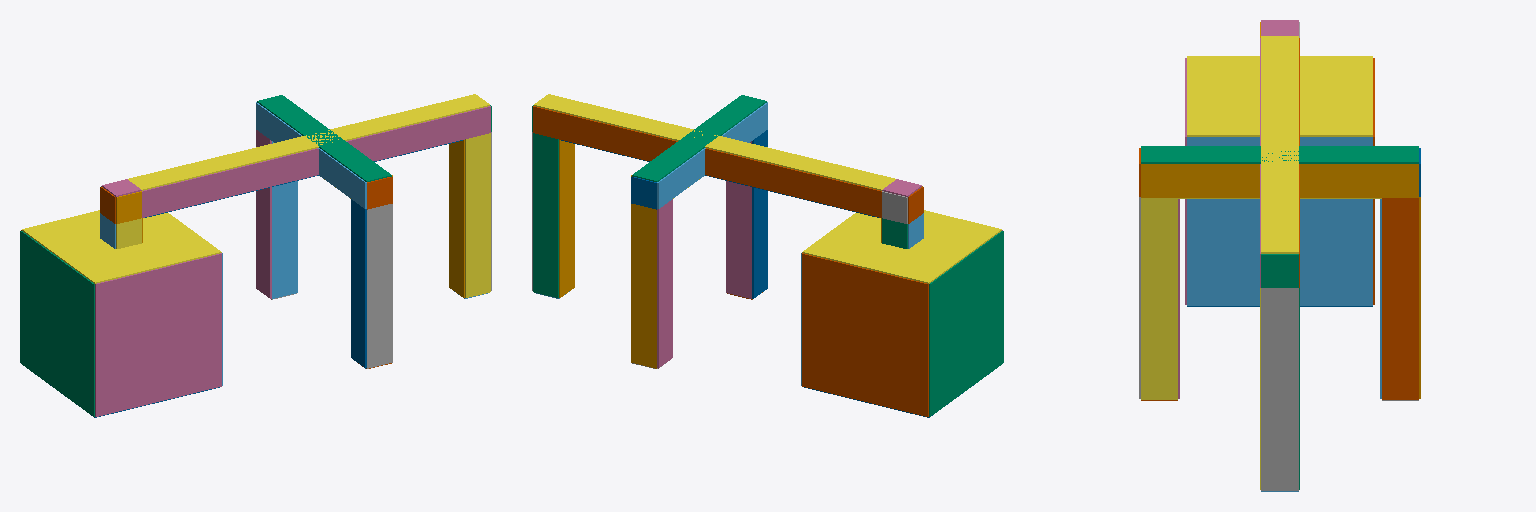
--- What the picture shows (computed from the rendered views, not written in the file) ---
3 views of the same robot in one strip: view 1: azimuth 30°, elevation 25°; view 2: azimuth 150°, elevation 25°; view 3: azimuth 270°, elevation 25° (orthographic).
Robot: robot — 70 links, 69 joints (2 continuous, 67 fixed); root link body; default pose: all joints at 0.
Links seen in each view (by area): view 1: body_sensor_0_right, body_sensor_0_stop, arm_sensor_0_right, body_sensor_0_top, arm_sensor_0_top, hand_3_sensor_0_right, hand_1_sensor_0_right, hand_2_sensor_0_right, palm_sensor_0_top, hand_3_sensor_0_stop, hand_1_sensor_0_stop, palm_sensor_0_stop (+4 smaller); view 2: body_sensor_0_left, body_sensor_0_stop, arm_sensor_0_left, body_sensor_0_top, arm_sensor_0_top, hand_2_sensor_0_left, hand_1_sensor_0_left, hand_3_sensor_0_left, palm_sensor_0_top, hand_2_sensor_0_stop, hand_1_sensor_0_stop, palm_sensor_0_stop (+4 smaller); view 3: body_sensor_0_start, body_sensor_0_top, arm_sensor_0_top, palm_sensor_0_start, hand_1_sensor_0_start, hand_2_sensor_0_start, hand_3_sensor_0_start, palm_sensor_0_top, arm_sensor_0_start, joint_2_sensor_0_top.
Boxes of the visible links, <box> form: body_sensor_0_right: <box>95,253,221,416</box>; body_sensor_0_stop: <box>20,231,94,416</box>; arm_sensor_0_right: <box>142,106,490,217</box>; body_sensor_0_top: <box>22,210,221,283</box>; arm_sensor_0_top: <box>128,94,489,190</box>; hand_3_sensor_0_right: <box>367,204,392,368</box>; hand_1_sensor_0_right: <box>465,133,490,297</box>; hand_2_sensor_0_right: <box>272,141,297,298</box>; palm_sensor_0_top: <box>257,95,391,181</box>; hand_3_sensor_0_stop: <box>351,199,366,368</box>; hand_1_sensor_0_stop: <box>449,140,464,297</box>; palm_sensor_0_stop: <box>256,102,366,208</box>; body_sensor_0_left: <box>802,253,928,416</box>; body_sensor_0_stop: <box>929,231,1003,416</box>; arm_sensor_0_left: <box>533,106,881,217</box>; body_sensor_0_top: <box>802,210,1001,283</box>; arm_sensor_0_top: <box>534,94,895,190</box>; hand_2_sensor_0_left: <box>631,204,656,368</box>; hand_1_sensor_0_left: <box>533,133,558,297</box>; hand_3_sensor_0_left: <box>726,141,751,298</box>; palm_sensor_0_top: <box>632,95,766,181</box>; hand_2_sensor_0_stop: <box>657,199,672,368</box>; hand_1_sensor_0_stop: <box>559,140,574,297</box>; palm_sensor_0_stop: <box>657,102,767,208</box>; body_sensor_0_start: <box>1187,137,1372,305</box>; body_sensor_0_top: <box>1187,56,1372,136</box>; arm_sensor_0_top: <box>1261,36,1298,253</box>; palm_sensor_0_start: <box>1141,164,1418,197</box>; hand_1_sensor_0_start: <box>1261,288,1298,490</box>; hand_2_sensor_0_start: <box>1382,198,1418,399</box>; hand_3_sensor_0_start: <box>1141,198,1177,399</box>; palm_sensor_0_top: <box>1141,146,1418,163</box>; arm_sensor_0_start: <box>1261,254,1298,287</box>; joint_2_sensor_0_top: <box>1261,20,1298,35</box>.
Bounding box of the posed robot: 3.37 × 1.52 × 1.42 m (x, y, z).
Geometry: primitives only (box / cylinder / sphere), no mesh files.

The robot description file, URDF, robot "robot":
<?xml version="1.0"?>
    <robot name="robot">


    <!-- body -->
    <link name="body">
        <inertial>
            <origin xyz="0 0 0" rpy="0 0 0"/>
            <mass value="100"/>
            <inertia ixx=".1" ixy=".1" ixz=".1" iyy=".1" iyz=".1" izz=".1"/>
        </inertial>
        <visual>
            <origin xyz="0 0 0" rpy="0 0 0"/>
            <geometry>
                <box size="1 1 1"/>
            </geometry>
        </visual>
        <collision>
            <origin xyz="0 0 0" rpy="0 0 0"/>
            <geometry>
                <box size="1 1 1"/>
            </geometry>
        </collision>
    </link>


    <!-- body_sensor_0_start -->
    <link name="body_sensor_0_start">
        <inertial>
            <origin xyz="0 0 0" rpy="0 0 0"/>
            <mass value="0"/>
            <inertia ixx=".1" ixy=".1" ixz=".1" iyy=".1" iyz=".1" izz=".1"/>
        </inertial>
        <visual>
            <origin xyz="0 0 0" rpy="0 0 0"/>
            <geometry>
                <box size="0.02 1 1"/>
            </geometry>
        </visual>
        <collision>
            <origin xyz="0 0 0" rpy="0 0 0"/>
            <geometry>
                <box size="0.02 1 1"/>
            </geometry>
        </collision>
    </link>
    <!-- Joint: body, body_sensor_0_start -->
    <joint name="body_body_sensor_0_start_joint" type="fixed">
        <parent link="body"/>
        <child link="body_sensor_0_start"/>
        <origin xyz="0.5 0 0"
                rpy="0 0 0"/>
        <axis xyz="0 0 1"/>
        
    </joint>


    <!-- body_sensor_0_stop -->
    <link name="body_sensor_0_stop">
        <inertial>
            <origin xyz="0 0 0" rpy="0 0 0"/>
            <mass value="0"/>
            <inertia ixx=".1" ixy=".1" ixz=".1" iyy=".1" iyz=".1" izz=".1"/>
        </inertial>
        <visual>
            <origin xyz="0 0 0" rpy="0 0 0"/>
            <geometry>
                <box size="0.02 1 1"/>
            </geometry>
        </visual>
        <collision>
            <origin xyz="0 0 0" rpy="0 0 0"/>
            <geometry>
                <box size="0.02 1 1"/>
            </geometry>
        </collision>
    </link>
    <!-- Joint: body, body_sensor_0_stop -->
    <joint name="body_body_sensor_0_stop_joint" type="fixed">
        <parent link="body"/>
        <child link="body_sensor_0_stop"/>
        <origin xyz="-0.5 0 0"
                rpy="0 0 0"/>
        <axis xyz="0 0 1"/>
        
    </joint>


    <!-- body_sensor_0_top -->
    <link name="body_sensor_0_top">
        <inertial>
            <origin xyz="0 0 0" rpy="0 0 0"/>
            <mass value="0"/>
            <inertia ixx=".1" ixy=".1" ixz=".1" iyy=".1" iyz=".1" izz=".1"/>
        </inertial>
        <visual>
            <origin xyz="0 0 0" rpy="0 0 0"/>
            <geometry>
                <box size="1.0 1 0.02"/>
            </geometry>
        </visual>
        <collision>
            <origin xyz="0 0 0" rpy="0 0 0"/>
            <geometry>
                <box size="1.0 1 0.02"/>
            </geometry>
        </collision>
    </link>
    <!-- Joint: body, body_sensor_0_top -->
    <joint name="body_body_sensor_0_top_joint" type="fixed">
        <parent link="body"/>
        <child link="body_sensor_0_top"/>
        <origin xyz="0 0 0.5"
                rpy="0 0 0"/>
        <axis xyz="0 0 1"/>
        
    </joint>


    <!-- body_sensor_0_bottom -->
    <link name="body_sensor_0_bottom">
        <inertial>
            <origin xyz="0 0 0" rpy="0 0 0"/>
            <mass value="0"/>
            <inertia ixx=".1" ixy=".1" ixz=".1" iyy=".1" iyz=".1" izz=".1"/>
        </inertial>
        <visual>
            <origin xyz="0 0 0" rpy="0 0 0"/>
            <geometry>
                <box size="1.0 1 0.02"/>
            </geometry>
        </visual>
        <collision>
            <origin xyz="0 0 0" rpy="0 0 0"/>
            <geometry>
                <box size="1.0 1 0.02"/>
            </geometry>
        </collision>
    </link>
    <!-- Joint: body, body_sensor_0_bottom -->
    <joint name="body_body_sensor_0_bottom_joint" type="fixed">
        <parent link="body"/>
        <child link="body_sensor_0_bottom"/>
        <origin xyz="0 0 -0.5"
                rpy="0 0 0"/>
        <axis xyz="0 0 1"/>
        
    </joint>


    <!-- body_sensor_0_left -->
    <link name="body_sensor_0_left">
        <inertial>
            <origin xyz="0 0 0" rpy="0 0 0"/>
            <mass value="0"/>
            <inertia ixx=".1" ixy=".1" ixz=".1" iyy=".1" iyz=".1" izz=".1"/>
        </inertial>
        <visual>
            <origin xyz="0 0 0" rpy="0 0 0"/>
            <geometry>
                <box size="1.0 0.02 1"/>
            </geometry>
        </visual>
        <collision>
            <origin xyz="0 0 0" rpy="0 0 0"/>
            <geometry>
                <box size="1.0 0.02 1"/>
            </geometry>
        </collision>
    </link>
    <!-- Joint: body, body_sensor_0_left -->
    <joint name="body_body_sensor_0_left_joint" type="fixed">
        <parent link="body"/>
        <child link="body_sensor_0_left"/>
        <origin xyz="0 0.5 0"
                rpy="0 0 0"/>
        <axis xyz="0 0 1"/>
        
    </joint>


    <!-- body_sensor_0_right -->
    <link name="body_sensor_0_right">
        <inertial>
            <origin xyz="0 0 0" rpy="0 0 0"/>
            <mass value="0"/>
            <inertia ixx=".1" ixy=".1" ixz=".1" iyy=".1" iyz=".1" izz=".1"/>
        </inertial>
        <visual>
            <origin xyz="0 0 0" rpy="0 0 0"/>
            <geometry>
                <box size="1.0 0.02 1"/>
            </geometry>
        </visual>
        <collision>
            <origin xyz="0 0 0" rpy="0 0 0"/>
            <geometry>
                <box size="1.0 0.02 1"/>
            </geometry>
        </collision>
    </link>
    <!-- Joint: body, body_sensor_0_right -->
    <joint name="body_body_sensor_0_right_joint" type="fixed">
        <parent link="body"/>
        <child link="body_sensor_0_right"/>
        <origin xyz="0 -0.5 0"
                rpy="0 0 0"/>
        <axis xyz="0 0 1"/>
        
    </joint>


    <!-- joint_1 -->
    <link name="joint_1">
        <inertial>
            <origin xyz="0 0 0" rpy="0 0 0"/>
            <mass value="2"/>
            <inertia ixx=".1" ixy=".1" ixz=".1" iyy=".1" iyz=".1" izz=".1"/>
        </inertial>
        <visual>
            <origin xyz="0 0 0" rpy="0 0 0"/>
            <geometry>
                <box size="0.2 0.2 0.2"/>
            </geometry>
        </visual>
        <collision>
            <origin xyz="0 0 0" rpy="0 0 0"/>
            <geometry>
                <box size="0.2 0.2 0.2"/>
            </geometry>
        </collision>
    </link>


    <!-- joint_1_sensor_0_start -->
    <link name="joint_1_sensor_0_start">
        <inertial>
            <origin xyz="0 0 0" rpy="0 0 0"/>
            <mass value="0"/>
            <inertia ixx=".1" ixy=".1" ixz=".1" iyy=".1" iyz=".1" izz=".1"/>
        </inertial>
        <visual>
            <origin xyz="0 0 0" rpy="0 0 0"/>
            <geometry>
                <box size="0.02 0.2 0.2"/>
            </geometry>
        </visual>
        <collision>
            <origin xyz="0 0 0" rpy="0 0 0"/>
            <geometry>
                <box size="0.02 0.2 0.2"/>
            </geometry>
        </collision>
    </link>
    <!-- Joint: joint_1, joint_1_sensor_0_start -->
    <joint name="joint_1_joint_1_sensor_0_start_joint" type="fixed">
        <parent link="joint_1"/>
        <child link="joint_1_sensor_0_start"/>
        <origin xyz="0.1 0 0"
                rpy="0 0 0"/>
        <axis xyz="0 0 1"/>
        
    </joint>


    <!-- joint_1_sensor_0_stop -->
    <link name="joint_1_sensor_0_stop">
        <inertial>
            <origin xyz="0 0 0" rpy="0 0 0"/>
            <mass value="0"/>
            <inertia ixx=".1" ixy=".1" ixz=".1" iyy=".1" iyz=".1" izz=".1"/>
        </inertial>
        <visual>
            <origin xyz="0 0 0" rpy="0 0 0"/>
            <geometry>
                <box size="0.02 0.2 0.2"/>
            </geometry>
        </visual>
        <collision>
            <origin xyz="0 0 0" rpy="0 0 0"/>
            <geometry>
                <box size="0.02 0.2 0.2"/>
            </geometry>
        </collision>
    </link>
    <!-- Joint: joint_1, joint_1_sensor_0_stop -->
    <joint name="joint_1_joint_1_sensor_0_stop_joint" type="fixed">
        <parent link="joint_1"/>
        <child link="joint_1_sensor_0_stop"/>
        <origin xyz="-0.1 0 0"
                rpy="0 0 0"/>
        <axis xyz="0 0 1"/>
        
    </joint>


    <!-- joint_1_sensor_0_left -->
    <link name="joint_1_sensor_0_left">
        <inertial>
            <origin xyz="0 0 0" rpy="0 0 0"/>
            <mass value="0"/>
            <inertia ixx=".1" ixy=".1" ixz=".1" iyy=".1" iyz=".1" izz=".1"/>
        </inertial>
        <visual>
            <origin xyz="0 0 0" rpy="0 0 0"/>
            <geometry>
                <box size="0.2 0.02 0.2"/>
            </geometry>
        </visual>
        <collision>
            <origin xyz="0 0 0" rpy="0 0 0"/>
            <geometry>
                <box size="0.2 0.02 0.2"/>
            </geometry>
        </collision>
    </link>
    <!-- Joint: joint_1, joint_1_sensor_0_left -->
    <joint name="joint_1_joint_1_sensor_0_left_joint" type="fixed">
        <parent link="joint_1"/>
        <child link="joint_1_sensor_0_left"/>
        <origin xyz="0 0.1 0"
                rpy="0 0 0"/>
        <axis xyz="0 0 1"/>
        
    </joint>


    <!-- joint_1_sensor_0_right -->
    <link name="joint_1_sensor_0_right">
        <inertial>
            <origin xyz="0 0 0" rpy="0 0 0"/>
            <mass value="0"/>
            <inertia ixx=".1" ixy=".1" ixz=".1" iyy=".1" iyz=".1" izz=".1"/>
        </inertial>
        <visual>
            <origin xyz="0 0 0" rpy="0 0 0"/>
            <geometry>
                <box size="0.2 0.02 0.2"/>
            </geometry>
        </visual>
        <collision>
            <origin xyz="0 0 0" rpy="0 0 0"/>
            <geometry>
                <box size="0.2 0.02 0.2"/>
            </geometry>
        </collision>
    </link>
    <!-- Joint: joint_1, joint_1_sensor_0_right -->
    <joint name="joint_1_joint_1_sensor_0_right_joint" type="fixed">
        <parent link="joint_1"/>
        <child link="joint_1_sensor_0_right"/>
        <origin xyz="0 -0.1 0"
                rpy="0 0 0"/>
        <axis xyz="0 0 1"/>
        
    </joint>
    <!-- Joint: body, joint_1 -->
    <joint name="body_joint_1_joint" type="continuous">
        <parent link="body"/>
        <child link="joint_1"/>
        <origin xyz="0 0 0.6"
                rpy="0 0 0"/>
        <axis xyz="0 0 1"/>
        <limit lower="0" upper="0" effort="0" velocity="0"/>
    </joint>


    <!-- joint_2 -->
    <link name="joint_2">
        <inertial>
            <origin xyz="0 0 0" rpy="0 0 0"/>
            <mass value="2"/>
            <inertia ixx=".1" ixy=".1" ixz=".1" iyy=".1" iyz=".1" izz=".1"/>
        </inertial>
        <visual>
            <origin xyz="0 0 0" rpy="0 0 0"/>
            <geometry>
                <box size="0.2 0.2 0.2"/>
            </geometry>
        </visual>
        <collision>
            <origin xyz="0 0 0" rpy="0 0 0"/>
            <geometry>
                <box size="0.2 0.2 0.2"/>
            </geometry>
        </collision>
    </link>


    <!-- joint_2_sensor_0_stop -->
    <link name="joint_2_sensor_0_stop">
        <inertial>
            <origin xyz="0 0 0" rpy="0 0 0"/>
            <mass value="0"/>
            <inertia ixx=".1" ixy=".1" ixz=".1" iyy=".1" iyz=".1" izz=".1"/>
        </inertial>
        <visual>
            <origin xyz="0 0 0" rpy="0 0 0"/>
            <geometry>
                <box size="0.02 0.2 0.2"/>
            </geometry>
        </visual>
        <collision>
            <origin xyz="0 0 0" rpy="0 0 0"/>
            <geometry>
                <box size="0.02 0.2 0.2"/>
            </geometry>
        </collision>
    </link>
    <!-- Joint: joint_2, joint_2_sensor_0_stop -->
    <joint name="joint_2_joint_2_sensor_0_stop_joint" type="fixed">
        <parent link="joint_2"/>
        <child link="joint_2_sensor_0_stop"/>
        <origin xyz="-0.1 0 0"
                rpy="0 0 0"/>
        <axis xyz="0 1 0"/>
        
    </joint>


    <!-- joint_2_sensor_0_top -->
    <link name="joint_2_sensor_0_top">
        <inertial>
            <origin xyz="0 0 0" rpy="0 0 0"/>
            <mass value="0"/>
            <inertia ixx=".1" ixy=".1" ixz=".1" iyy=".1" iyz=".1" izz=".1"/>
        </inertial>
        <visual>
            <origin xyz="0 0 0" rpy="0 0 0"/>
            <geometry>
                <box size="0.2 0.2 0.02"/>
            </geometry>
        </visual>
        <collision>
            <origin xyz="0 0 0" rpy="0 0 0"/>
            <geometry>
                <box size="0.2 0.2 0.02"/>
            </geometry>
        </collision>
    </link>
    <!-- Joint: joint_2, joint_2_sensor_0_top -->
    <joint name="joint_2_joint_2_sensor_0_top_joint" type="fixed">
        <parent link="joint_2"/>
        <child link="joint_2_sensor_0_top"/>
        <origin xyz="0 0 0.1"
                rpy="0 0 0"/>
        <axis xyz="0 1 0"/>
        
    </joint>


    <!-- joint_2_sensor_0_left -->
    <link name="joint_2_sensor_0_left">
        <inertial>
            <origin xyz="0 0 0" rpy="0 0 0"/>
            <mass value="0"/>
            <inertia ixx=".1" ixy=".1" ixz=".1" iyy=".1" iyz=".1" izz=".1"/>
        </inertial>
        <visual>
            <origin xyz="0 0 0" rpy="0 0 0"/>
            <geometry>
                <box size="0.2 0.02 0.2"/>
            </geometry>
        </visual>
        <collision>
            <origin xyz="0 0 0" rpy="0 0 0"/>
            <geometry>
                <box size="0.2 0.02 0.2"/>
            </geometry>
        </collision>
    </link>
    <!-- Joint: joint_2, joint_2_sensor_0_left -->
    <joint name="joint_2_joint_2_sensor_0_left_joint" type="fixed">
        <parent link="joint_2"/>
        <child link="joint_2_sensor_0_left"/>
        <origin xyz="0 0.1 0"
                rpy="0 0 0"/>
        <axis xyz="0 1 0"/>
        
    </joint>


    <!-- joint_2_sensor_0_right -->
    <link name="joint_2_sensor_0_right">
        <inertial>
            <origin xyz="0 0 0" rpy="0 0 0"/>
            <mass value="0"/>
            <inertia ixx=".1" ixy=".1" ixz=".1" iyy=".1" iyz=".1" izz=".1"/>
        </inertial>
        <visual>
            <origin xyz="0 0 0" rpy="0 0 0"/>
            <geometry>
                <box size="0.2 0.02 0.2"/>
            </geometry>
        </visual>
        <collision>
            <origin xyz="0 0 0" rpy="0 0 0"/>
            <geometry>
                <box size="0.2 0.02 0.2"/>
            </geometry>
        </collision>
    </link>
    <!-- Joint: joint_2, joint_2_sensor_0_right -->
    <joint name="joint_2_joint_2_sensor_0_right_joint" type="fixed">
        <parent link="joint_2"/>
        <child link="joint_2_sensor_0_right"/>
        <origin xyz="0 -0.1 0"
                rpy="0 0 0"/>
        <axis xyz="0 1 0"/>
        
    </joint>
    <!-- Joint: joint_1, joint_2 -->
    <joint name="joint_1_joint_2_joint" type="continuous">
        <parent link="joint_1"/>
        <child link="joint_2"/>
        <origin xyz="0 0 0.2"
                rpy="0 0 0"/>
        <axis xyz="0 1 0"/>
        <limit lower="0" upper="0" effort="0" velocity="0"/>
    </joint>


    <!-- arm -->
    <link name="arm">
        <inertial>
            <origin xyz="0 0 0" rpy="0 0 0"/>
            <mass value="2"/>
            <inertia ixx=".1" ixy=".1" ixz=".1" iyy=".1" iyz=".1" izz=".1"/>
        </inertial>
        <visual>
            <origin xyz="0 0 0" rpy="0 0 0"/>
            <geometry>
                <box size="2.75 0.2 0.2"/>
            </geometry>
        </visual>
        <collision>
            <origin xyz="0 0 0" rpy="0 0 0"/>
            <geometry>
                <box size="2.75 0.2 0.2"/>
            </geometry>
        </collision>
    </link>


    <!-- arm_sensor_0_start -->
    <link name="arm_sensor_0_start">
        <inertial>
            <origin xyz="0 0 0" rpy="0 0 0"/>
            <mass value="0"/>
            <inertia ixx=".1" ixy=".1" ixz=".1" iyy=".1" iyz=".1" izz=".1"/>
        </inertial>
        <visual>
            <origin xyz="0 0 0" rpy="0 0 0"/>
            <geometry>
                <box size="0.02 0.2 0.2"/>
            </geometry>
        </visual>
        <collision>
            <origin xyz="0 0 0" rpy="0 0 0"/>
            <geometry>
                <box size="0.02 0.2 0.2"/>
            </geometry>
        </collision>
    </link>
    <!-- Joint: arm, arm_sensor_0_start -->
    <joint name="arm_arm_sensor_0_start_joint" type="fixed">
        <parent link="arm"/>
        <child link="arm_sensor_0_start"/>
        <origin xyz="1.375 0 0"
                rpy="0 0 0"/>
        <axis xyz="0 1 0"/>
        
    </joint>


    <!-- arm_sensor_0_top -->
    <link name="arm_sensor_0_top">
        <inertial>
            <origin xyz="0 0 0" rpy="0 0 0"/>
            <mass value="0"/>
            <inertia ixx=".1" ixy=".1" ixz=".1" iyy=".1" iyz=".1" izz=".1"/>
        </inertial>
        <visual>
            <origin xyz="0 0 0" rpy="0 0 0"/>
            <geometry>
                <box size="2.75 0.2 0.02"/>
            </geometry>
        </visual>
        <collision>
            <origin xyz="0 0 0" rpy="0 0 0"/>
            <geometry>
                <box size="2.75 0.2 0.02"/>
            </geometry>
        </collision>
    </link>
    <!-- Joint: arm, arm_sensor_0_top -->
    <joint name="arm_arm_sensor_0_top_joint" type="fixed">
        <parent link="arm"/>
        <child link="arm_sensor_0_top"/>
        <origin xyz="0 0 0.1"
                rpy="0 0 0"/>
        <axis xyz="0 1 0"/>
        
    </joint>


    <!-- arm_sensor_0_bottom -->
    <link name="arm_sensor_0_bottom">
        <inertial>
            <origin xyz="0 0 0" rpy="0 0 0"/>
            <mass value="0"/>
            <inertia ixx=".1" ixy=".1" ixz=".1" iyy=".1" iyz=".1" izz=".1"/>
        </inertial>
        <visual>
            <origin xyz="0 0 0" rpy="0 0 0"/>
            <geometry>
                <box size="2.75 0.2 0.02"/>
            </geometry>
        </visual>
        <collision>
            <origin xyz="0 0 0" rpy="0 0 0"/>
            <geometry>
                <box size="2.75 0.2 0.02"/>
            </geometry>
        </collision>
    </link>
    <!-- Joint: arm, arm_sensor_0_bottom -->
    <joint name="arm_arm_sensor_0_bottom_joint" type="fixed">
        <parent link="arm"/>
        <child link="arm_sensor_0_bottom"/>
        <origin xyz="0 0 -0.1"
                rpy="0 0 0"/>
        <axis xyz="0 1 0"/>
        
    </joint>


    <!-- arm_sensor_0_left -->
    <link name="arm_sensor_0_left">
        <inertial>
            <origin xyz="0 0 0" rpy="0 0 0"/>
            <mass value="0"/>
            <inertia ixx=".1" ixy=".1" ixz=".1" iyy=".1" iyz=".1" izz=".1"/>
        </inertial>
        <visual>
            <origin xyz="0 0 0" rpy="0 0 0"/>
            <geometry>
                <box size="2.75 0.02 0.2"/>
            </geometry>
        </visual>
        <collision>
            <origin xyz="0 0 0" rpy="0 0 0"/>
            <geometry>
                <box size="2.75 0.02 0.2"/>
            </geometry>
        </collision>
    </link>
    <!-- Joint: arm, arm_sensor_0_left -->
    <joint name="arm_arm_sensor_0_left_joint" type="fixed">
        <parent link="arm"/>
        <child link="arm_sensor_0_left"/>
        <origin xyz="0 0.1 0"
                rpy="0 0 0"/>
        <axis xyz="0 1 0"/>
        
    </joint>


    <!-- arm_sensor_0_right -->
    <link name="arm_sensor_0_right">
        <inertial>
            <origin xyz="0 0 0" rpy="0 0 0"/>
            <mass value="0"/>
            <inertia ixx=".1" ixy=".1" ixz=".1" iyy=".1" iyz=".1" izz=".1"/>
        </inertial>
        <visual>
            <origin xyz="0 0 0" rpy="0 0 0"/>
            <geometry>
                <box size="2.75 0.02 0.2"/>
            </geometry>
        </visual>
        <collision>
            <origin xyz="0 0 0" rpy="0 0 0"/>
            <geometry>
                <box size="2.75 0.02 0.2"/>
            </geometry>
        </collision>
    </link>
    <!-- Joint: arm, arm_sensor_0_right -->
    <joint name="arm_arm_sensor_0_right_joint" type="fixed">
        <parent link="arm"/>
        <child link="arm_sensor_0_right"/>
        <origin xyz="0 -0.1 0"
                rpy="0 0 0"/>
        <axis xyz="0 1 0"/>
        
    </joint>
    <!-- Joint: joint_2, arm -->
    <joint name="joint_2_arm_joint" type="fixed">
        <parent link="joint_2"/>
        <child link="arm"/>
        <origin xyz="1.475 0 0"
                rpy="0 0 0"/>
        <axis xyz="0 1 0"/>
        
    </joint>


    <!-- palm -->
    <link name="palm">
        <inertial>
            <origin xyz="0 0 0" rpy="0 0 0"/>
            <mass value="2"/>
            <inertia ixx=".1" ixy=".1" ixz=".1" iyy=".1" iyz=".1" izz=".1"/>
        </inertial>
        <visual>
            <origin xyz="0 0 0" rpy="0 0 0"/>
            <geometry>
                <box size="0.2 1.5 0.2"/>
            </geometry>
        </visual>
        <collision>
            <origin xyz="0 0 0" rpy="0 0 0"/>
            <geometry>
                <box size="0.2 1.5 0.2"/>
            </geometry>
        </collision>
    </link>


    <!-- palm_sensor_0_start -->
    <link name="palm_sensor_0_start">
        <inertial>
            <origin xyz="0 0 0" rpy="0 0 0"/>
            <mass value="0"/>
            <inertia ixx=".1" ixy=".1" ixz=".1" iyy=".1" iyz=".1" izz=".1"/>
        </inertial>
        <visual>
            <origin xyz="0 0 0" rpy="0 0 0"/>
            <geometry>
                <box size="0.02 1.5 0.2"/>
            </geometry>
        </visual>
        <collision>
            <origin xyz="0 0 0" rpy="0 0 0"/>
            <geometry>
                <box size="0.02 1.5 0.2"/>
            </geometry>
        </collision>
    </link>
    <!-- Joint: palm, palm_sensor_0_start -->
    <joint name="palm_palm_sensor_0_start_joint" type="fixed">
        <parent link="palm"/>
        <child link="palm_sensor_0_start"/>
        <origin xyz="0.1 0 0"
                rpy="0 0 0"/>
        <axis xyz="0 1 0"/>
        
    </joint>


    <!-- palm_sensor_0_stop -->
    <link name="palm_sensor_0_stop">
        <inertial>
            <origin xyz="0 0 0" rpy="0 0 0"/>
            <mass value="0"/>
            <inertia ixx=".1" ixy=".1" ixz=".1" iyy=".1" iyz=".1" izz=".1"/>
        </inertial>
        <visual>
            <origin xyz="0 0 0" rpy="0 0 0"/>
            <geometry>
                <box size="0.02 1.5 0.2"/>
            </geometry>
        </visual>
        <collision>
            <origin xyz="0 0 0" rpy="0 0 0"/>
            <geometry>
                <box size="0.02 1.5 0.2"/>
            </geometry>
        </collision>
    </link>
    <!-- Joint: palm, palm_sensor_0_stop -->
    <joint name="palm_palm_sensor_0_stop_joint" type="fixed">
        <parent link="palm"/>
        <child link="palm_sensor_0_stop"/>
        <origin xyz="-0.1 0 0"
                rpy="0 0 0"/>
        <axis xyz="0 1 0"/>
        
    </joint>


    <!-- palm_sensor_0_top -->
    <link name="palm_sensor_0_top">
        <inertial>
            <origin xyz="0 0 0" rpy="0 0 0"/>
            <mass value="0"/>
            <inertia ixx=".1" ixy=".1" ixz=".1" iyy=".1" iyz=".1" izz=".1"/>
        </inertial>
        <visual>
            <origin xyz="0 0 0" rpy="0 0 0"/>
            <geometry>
                <box size="0.2 1.5 0.02"/>
            </geometry>
        </visual>
        <collision>
            <origin xyz="0 0 0" rpy="0 0 0"/>
            <geometry>
                <box size="0.2 1.5 0.02"/>
            </geometry>
        </collision>
    </link>
    <!-- Joint: palm, palm_sensor_0_top -->
    <joint name="palm_palm_sensor_0_top_joint" type="fixed">
        <parent link="palm"/>
        <child link="palm_sensor_0_top"/>
        <origin xyz="0 0 0.1"
                rpy="0 0 0"/>
        <axis xyz="0 1 0"/>
        
    </joint>


    <!-- palm_sensor_0_bottom -->
    <link name="palm_sensor_0_bottom">
        <inertial>
            <origin xyz="0 0 0" rpy="0 0 0"/>
            <mass value="0"/>
            <inertia ixx=".1" ixy=".1" ixz=".1" iyy=".1" iyz=".1" izz=".1"/>
        </inertial>
        <visual>
            <origin xyz="0 0 0" rpy="0 0 0"/>
            <geometry>
                <box size="0.2 1.5 0.02"/>
            </geometry>
        </visual>
        <collision>
            <origin xyz="0 0 0" rpy="0 0 0"/>
            <geometry>
                <box size="0.2 1.5 0.02"/>
            </geometry>
        </collision>
    </link>
    <!-- Joint: palm, palm_sensor_0_bottom -->
    <joint name="palm_palm_sensor_0_bottom_joint" type="fixed">
        <parent link="palm"/>
        <child link="palm_sensor_0_bottom"/>
        <origin xyz="0 0 -0.1"
                rpy="0 0 0"/>
        <axis xyz="0 1 0"/>
        
    </joint>


    <!-- palm_sensor_0_left -->
    <link name="palm_sensor_0_left">
        <inertial>
            <origin xyz="0 0 0" rpy="0 0 0"/>
            <mass value="0"/>
            <inertia ixx=".1" ixy=".1" ixz=".1" iyy=".1" iyz=".1" izz=".1"/>
        </inertial>
        <visual>
            <origin xyz="0 0 0" rpy="0 0 0"/>
            <geometry>
                <box size="0.2 0.02 0.2"/>
            </geometry>
        </visual>
        <collision>
            <origin xyz="0 0 0" rpy="0 0 0"/>
            <geometry>
                <box size="0.2 0.02 0.2"/>
            </geometry>
        </collision>
    </link>
    <!-- Joint: palm, palm_sensor_0_left -->
    <joint name="palm_palm_sensor_0_left_joint" type="fixed">
        <parent link="palm"/>
        <child link="palm_sensor_0_left"/>
        <origin xyz="0 0.75 0"
                rpy="0 0 0"/>
        <axis xyz="0 1 0"/>
        
    </joint>


    <!-- palm_sensor_0_right -->
    <link name="palm_sensor_0_right">
        <inertial>
            <origin xyz="0 0 0" rpy="0 0 0"/>
            <mass value="0"/>
            <inertia ixx=".1" ixy=".1" ixz=".1" iyy=".1" iyz=".1" izz=".1"/>
        </inertial>
        <visual>
            <origin xyz="0 0 0" rpy="0 0 0"/>
            <geometry>
                <box size="0.2 0.02 0.2"/>
            </geometry>
        </visual>
        <collision>
            <origin xyz="0 0 0" rpy="0 0 0"/>
            <geometry>
                <box size="0.2 0.02 0.2"/>
            </geometry>
        </collision>
    </link>
    <!-- Joint: palm, palm_sensor_0_right -->
    <joint name="palm_palm_sensor_0_right_joint" type="fixed">
        <parent link="palm"/>
        <child link="palm_sensor_0_right"/>
        <origin xyz="0 -0.75 0"
                rpy="0 0 0"/>
        <axis xyz="0 1 0"/>
        
    </joint>
    <!-- Joint: arm, palm -->
    <joint name="arm_palm_joint" type="fixed">
        <parent link="arm"/>
        <child link="palm"/>
        <origin xyz="0.125 0 0"
                rpy="0 0 0"/>
        <axis xyz="0 1 0"/>
        
    </joint>


    <!-- hand_1 -->
    <link name="hand_1">
        <inertial>
            <origin xyz="0 0 0" rpy="0 0 0"/>
            <mass value="2"/>
            <inertia ixx=".1" ixy=".1" ixz=".1" iyy=".1" iyz=".1" izz=".1"/>
        </inertial>
        <visual>
            <origin xyz="0 0 0" rpy="0 0 0"/>
            <geometry>
                <box size="0.2 0.2 1.2"/>
            </geometry>
        </visual>
        <collision>
            <origin xyz="0 0 0" rpy="0 0 0"/>
            <geometry>
                <box size="0.2 0.2 1.2"/>
            </geometry>
        </collision>
    </link>


    <!-- hand_1_sensor_0_start -->
    <link name="hand_1_sensor_0_start">
        <inertial>
            <origin xyz="0 0 0" rpy="0 0 0"/>
            <mass value="0"/>
            <inertia ixx=".1" ixy=".1" ixz=".1" iyy=".1" iyz=".1" izz=".1"/>
        </inertial>
        <visual>
            <origin xyz="0 0 0" rpy="0 0 0"/>
            <geometry>
                <box size="0.02 0.2 1.2"/>
            </geometry>
        </visual>
        <collision>
            <origin xyz="0 0 0" rpy="0 0 0"/>
            <geometry>
                <box size="0.02 0.2 1.2"/>
            </geometry>
        </collision>
    </link>
    <!-- Joint: hand_1, hand_1_sensor_0_start -->
    <joint name="hand_1_hand_1_sensor_0_start_joint" type="fixed">
        <parent link="hand_1"/>
        <child link="hand_1_sensor_0_start"/>
        <origin xyz="0.1 0 0"
                rpy="0 0 0"/>
        <axis xyz="0 1 0"/>
        
    </joint>


    <!-- hand_1_sensor_0_stop -->
    <link name="hand_1_sensor_0_stop">
        <inertial>
            <origin xyz="0 0 0" rpy="0 0 0"/>
            <mass value="0"/>
            <inertia ixx=".1" ixy=".1" ixz=".1" iyy=".1" iyz=".1" izz=".1"/>
        </inertial>
        <visual>
            <origin xyz="0 0 0" rpy="0 0 0"/>
            <geometry>
                <box size="0.02 0.2 1.2"/>
            </geometry>
        </visual>
        <collision>
            <origin xyz="0 0 0" rpy="0 0 0"/>
            <geometry>
                <box size="0.02 0.2 1.2"/>
            </geometry>
        </collision>
    </link>
    <!-- Joint: hand_1, hand_1_sensor_0_stop -->
    <joint name="hand_1_hand_1_sensor_0_stop_joint" type="fixed">
        <parent link="hand_1"/>
        <child link="hand_1_sensor_0_stop"/>
        <origin xyz="-0.1 0 0"
                rpy="0 0 0"/>
        <axis xyz="0 1 0"/>
        
    </joint>


    <!-- hand_1_sensor_0_bottom -->
    <link name="hand_1_sensor_0_bottom">
        <inertial>
            <origin xyz="0 0 0" rpy="0 0 0"/>
            <mass value="0"/>
            <inertia ixx=".1" ixy=".1" ixz=".1" iyy=".1" iyz=".1" izz=".1"/>
        </inertial>
        <visual>
            <origin xyz="0 0 0" rpy="0 0 0"/>
            <geometry>
                <box size="0.2 0.2 0.02"/>
            </geometry>
        </visual>
        <collision>
            <origin xyz="0 0 0" rpy="0 0 0"/>
            <geometry>
                <box size="0.2 0.2 0.02"/>
            </geometry>
        </collision>
    </link>
    <!-- Joint: hand_1, hand_1_sensor_0_bottom -->
    <joint name="hand_1_hand_1_sensor_0_bottom_joint" type="fixed">
        <parent link="hand_1"/>
        <child link="hand_1_sensor_0_bottom"/>
        <origin xyz="0 0 -0.6"
                rpy="0 0 0"/>
        <axis xyz="0 1 0"/>
        
    </joint>


    <!-- hand_1_sensor_0_left -->
    <link name="hand_1_sensor_0_left">
        <inertial>
            <origin xyz="0 0 0" rpy="0 0 0"/>
            <mass value="0"/>
            <inertia ixx=".1" ixy=".1" ixz=".1" iyy=".1" iyz=".1" izz=".1"/>
        </inertial>
        <visual>
            <origin xyz="0 0 0" rpy="0 0 0"/>
            <geometry>
                <box size="0.2 0.02 1.2"/>
            </geometry>
        </visual>
        <collision>
            <origin xyz="0 0 0" rpy="0 0 0"/>
            <geometry>
                <box size="0.2 0.02 1.2"/>
            </geometry>
        </collision>
    </link>
    <!-- Joint: hand_1, hand_1_sensor_0_left -->
    <joint name="hand_1_hand_1_sensor_0_left_joint" type="fixed">
        <parent link="hand_1"/>
        <child link="hand_1_sensor_0_left"/>
        <origin xyz="0 0.1 0"
                rpy="0 0 0"/>
        <axis xyz="0 1 0"/>
        
    </joint>


    <!-- hand_1_sensor_0_right -->
    <link name="hand_1_sensor_0_right">
        <inertial>
            <origin xyz="0 0 0" rpy="0 0 0"/>
            <mass value="0"/>
            <inertia ixx=".1" ixy=".1" ixz=".1" iyy=".1" iyz=".1" izz=".1"/>
        </inertial>
        <visual>
            <origin xyz="0 0 0" rpy="0 0 0"/>
            <geometry>
                <box size="0.2 0.02 1.2"/>
            </geometry>
        </visual>
        <collision>
            <origin xyz="0 0 0" rpy="0 0 0"/>
            <geometry>
                <box size="0.2 0.02 1.2"/>
            </geometry>
        </collision>
    </link>
    <!-- Joint: hand_1, hand_1_sensor_0_right -->
    <joint name="hand_1_hand_1_sensor_0_right_joint" type="fixed">
        <parent link="hand_1"/>
        <child link="hand_1_sensor_0_right"/>
        <origin xyz="0 -0.1 0"
                rpy="0 0 0"/>
        <axis xyz="0 1 0"/>
        
    </joint>
    <!-- Joint: palm, hand_1 -->
    <joint name="palm_hand_1_joint" type="fixed">
        <parent link="palm"/>
        <child link="hand_1"/>
        <origin xyz="1.15 0 -0.7"
                rpy="0 0 0"/>
        <axis xyz="0 1 0"/>
        
    </joint>


    <!-- hand_2 -->
    <link name="hand_2">
        <inertial>
            <origin xyz="0 0 0" rpy="0 0 0"/>
            <mass value="2"/>
            <inertia ixx=".1" ixy=".1" ixz=".1" iyy=".1" iyz=".1" izz=".1"/>
        </inertial>
        <visual>
            <origin xyz="0 0 0" rpy="0 0 0"/>
            <geometry>
                <box size="0.2 0.2 1.2"/>
            </geometry>
        </visual>
        <collision>
            <origin xyz="0 0 0" rpy="0 0 0"/>
            <geometry>
                <box size="0.2 0.2 1.2"/>
            </geometry>
        </collision>
    </link>


    <!-- hand_2_sensor_0_start -->
    <link name="hand_2_sensor_0_start">
        <inertial>
            <origin xyz="0 0 0" rpy="0 0 0"/>
            <mass value="0"/>
            <inertia ixx=".1" ixy=".1" ixz=".1" iyy=".1" iyz=".1" izz=".1"/>
        </inertial>
        <visual>
            <origin xyz="0 0 0" rpy="0 0 0"/>
            <geometry>
                <box size="0.02 0.2 1.2"/>
            </geometry>
        </visual>
        <collision>
            <origin xyz="0 0 0" rpy="0 0 0"/>
            <geometry>
                <box size="0.02 0.2 1.2"/>
            </geometry>
        </collision>
    </link>
    <!-- Joint: hand_2, hand_2_sensor_0_start -->
    <joint name="hand_2_hand_2_sensor_0_start_joint" type="fixed">
        <parent link="hand_2"/>
        <child link="hand_2_sensor_0_start"/>
        <origin xyz="0.1 0 0"
                rpy="0 0 0"/>
        <axis xyz="0 1 0"/>
        
    </joint>


    <!-- hand_2_sensor_0_stop -->
    <link name="hand_2_sensor_0_stop">
        <inertial>
            <origin xyz="0 0 0" rpy="0 0 0"/>
            <mass value="0"/>
            <inertia ixx=".1" ixy=".1" ixz=".1" iyy=".1" iyz=".1" izz=".1"/>
        </inertial>
        <visual>
            <origin xyz="0 0 0" rpy="0 0 0"/>
            <geometry>
                <box size="0.02 0.2 1.2"/>
            </geometry>
        </visual>
        <collision>
            <origin xyz="0 0 0" rpy="0 0 0"/>
            <geometry>
                <box size="0.02 0.2 1.2"/>
            </geometry>
        </collision>
    </link>
    <!-- Joint: hand_2, hand_2_sensor_0_stop -->
    <joint name="hand_2_hand_2_sensor_0_stop_joint" type="fixed">
        <parent link="hand_2"/>
        <child link="hand_2_sensor_0_stop"/>
        <origin xyz="-0.1 0 0"
                rpy="0 0 0"/>
        <axis xyz="0 1 0"/>
        
    </joint>


    <!-- hand_2_sensor_0_bottom -->
    <link name="hand_2_sensor_0_bottom">
        <inertial>
            <origin xyz="0 0 0" rpy="0 0 0"/>
            <mass value="0"/>
            <inertia ixx=".1" ixy=".1" ixz=".1" iyy=".1" iyz=".1" izz=".1"/>
        </inertial>
        <visual>
            <origin xyz="0 0 0" rpy="0 0 0"/>
            <geometry>
                <box size="0.2 0.2 0.02"/>
            </geometry>
        </visual>
        <collision>
            <origin xyz="0 0 0" rpy="0 0 0"/>
            <geometry>
                <box size="0.2 0.2 0.02"/>
            </geometry>
        </collision>
    </link>
    <!-- Joint: hand_2, hand_2_sensor_0_bottom -->
    <joint name="hand_2_hand_2_sensor_0_bottom_joint" type="fixed">
        <parent link="hand_2"/>
        <child link="hand_2_sensor_0_bottom"/>
        <origin xyz="0 0 -0.6"
                rpy="0 0 0"/>
        <axis xyz="0 1 0"/>
        
    </joint>


    <!-- hand_2_sensor_0_left -->
    <link name="hand_2_sensor_0_left">
        <inertial>
            <origin xyz="0 0 0" rpy="0 0 0"/>
            <mass value="0"/>
            <inertia ixx=".1" ixy=".1" ixz=".1" iyy=".1" iyz=".1" izz=".1"/>
        </inertial>
        <visual>
            <origin xyz="0 0 0" rpy="0 0 0"/>
            <geometry>
                <box size="0.2 0.02 1.2"/>
            </geometry>
        </visual>
        <collision>
            <origin xyz="0 0 0" rpy="0 0 0"/>
            <geometry>
                <box size="0.2 0.02 1.2"/>
            </geometry>
        </collision>
    </link>
    <!-- Joint: hand_2, hand_2_sensor_0_left -->
    <joint name="hand_2_hand_2_sensor_0_left_joint" type="fixed">
        <parent link="hand_2"/>
        <child link="hand_2_sensor_0_left"/>
        <origin xyz="0 0.1 0"
                rpy="0 0 0"/>
        <axis xyz="0 1 0"/>
        
    </joint>


    <!-- hand_2_sensor_0_right -->
    <link name="hand_2_sensor_0_right">
        <inertial>
            <origin xyz="0 0 0" rpy="0 0 0"/>
            <mass value="0"/>
            <inertia ixx=".1" ixy=".1" ixz=".1" iyy=".1" iyz=".1" izz=".1"/>
        </inertial>
        <visual>
            <origin xyz="0 0 0" rpy="0 0 0"/>
            <geometry>
                <box size="0.2 0.02 1.2"/>
            </geometry>
        </visual>
        <collision>
            <origin xyz="0 0 0" rpy="0 0 0"/>
            <geometry>
                <box size="0.2 0.02 1.2"/>
            </geometry>
        </collision>
    </link>
    <!-- Joint: hand_2, hand_2_sensor_0_right -->
    <joint name="hand_2_hand_2_sensor_0_right_joint" type="fixed">
        <parent link="hand_2"/>
        <child link="hand_2_sensor_0_right"/>
        <origin xyz="0 -0.1 0"
                rpy="0 0 0"/>
        <axis xyz="0 1 0"/>
        
    </joint>
    <!-- Joint: palm, hand_2 -->
    <joint name="palm_hand_2_joint" type="fixed">
        <parent link="palm"/>
        <child link="hand_2"/>
        <origin xyz="0 0.65 -0.7"
                rpy="0 0 0"/>
        <axis xyz="0 1 0"/>
        
    </joint>


    <!-- hand_3 -->
    <link name="hand_3">
        <inertial>
            <origin xyz="0 0 0" rpy="0 0 0"/>
            <mass value="2"/>
            <inertia ixx=".1" ixy=".1" ixz=".1" iyy=".1" iyz=".1" izz=".1"/>
        </inertial>
        <visual>
            <origin xyz="0 0 0" rpy="0 0 0"/>
            <geometry>
                <box size="0.2 0.2 1.2"/>
            </geometry>
        </visual>
        <collision>
            <origin xyz="0 0 0" rpy="0 0 0"/>
            <geometry>
                <box size="0.2 0.2 1.2"/>
            </geometry>
        </collision>
    </link>


    <!-- hand_3_sensor_0_start -->
    <link name="hand_3_sensor_0_start">
        <inertial>
            <origin xyz="0 0 0" rpy="0 0 0"/>
            <mass value="0"/>
            <inertia ixx=".1" ixy=".1" ixz=".1" iyy=".1" iyz=".1" izz=".1"/>
        </inertial>
        <visual>
            <origin xyz="0 0 0" rpy="0 0 0"/>
            <geometry>
                <box size="0.02 0.2 1.2"/>
            </geometry>
        </visual>
        <collision>
            <origin xyz="0 0 0" rpy="0 0 0"/>
            <geometry>
                <box size="0.02 0.2 1.2"/>
            </geometry>
        </collision>
    </link>
    <!-- Joint: hand_3, hand_3_sensor_0_start -->
    <joint name="hand_3_hand_3_sensor_0_start_joint" type="fixed">
        <parent link="hand_3"/>
        <child link="hand_3_sensor_0_start"/>
        <origin xyz="0.1 0 0"
                rpy="0 0 0"/>
        <axis xyz="0 1 0"/>
        
    </joint>


    <!-- hand_3_sensor_0_stop -->
    <link name="hand_3_sensor_0_stop">
        <inertial>
            <origin xyz="0 0 0" rpy="0 0 0"/>
            <mass value="0"/>
            <inertia ixx=".1" ixy=".1" ixz=".1" iyy=".1" iyz=".1" izz=".1"/>
        </inertial>
        <visual>
            <origin xyz="0 0 0" rpy="0 0 0"/>
            <geometry>
                <box size="0.02 0.2 1.2"/>
            </geometry>
        </visual>
        <collision>
            <origin xyz="0 0 0" rpy="0 0 0"/>
            <geometry>
                <box size="0.02 0.2 1.2"/>
            </geometry>
        </collision>
    </link>
    <!-- Joint: hand_3, hand_3_sensor_0_stop -->
    <joint name="hand_3_hand_3_sensor_0_stop_joint" type="fixed">
        <parent link="hand_3"/>
        <child link="hand_3_sensor_0_stop"/>
        <origin xyz="-0.1 0 0"
                rpy="0 0 0"/>
        <axis xyz="0 1 0"/>
        
    </joint>


    <!-- hand_3_sensor_0_bottom -->
    <link name="hand_3_sensor_0_bottom">
        <inertial>
            <origin xyz="0 0 0" rpy="0 0 0"/>
            <mass value="0"/>
            <inertia ixx=".1" ixy=".1" ixz=".1" iyy=".1" iyz=".1" izz=".1"/>
        </inertial>
        <visual>
            <origin xyz="0 0 0" rpy="0 0 0"/>
            <geometry>
                <box size="0.2 0.2 0.02"/>
            </geometry>
        </visual>
        <collision>
            <origin xyz="0 0 0" rpy="0 0 0"/>
            <geometry>
                <box size="0.2 0.2 0.02"/>
            </geometry>
        </collision>
    </link>
    <!-- Joint: hand_3, hand_3_sensor_0_bottom -->
    <joint name="hand_3_hand_3_sensor_0_bottom_joint" type="fixed">
        <parent link="hand_3"/>
        <child link="hand_3_sensor_0_bottom"/>
        <origin xyz="0 0 -0.6"
                rpy="0 0 0"/>
        <axis xyz="0 1 0"/>
        
    </joint>


    <!-- hand_3_sensor_0_left -->
    <link name="hand_3_sensor_0_left">
        <inertial>
            <origin xyz="0 0 0" rpy="0 0 0"/>
            <mass value="0"/>
            <inertia ixx=".1" ixy=".1" ixz=".1" iyy=".1" iyz=".1" izz=".1"/>
        </inertial>
        <visual>
            <origin xyz="0 0 0" rpy="0 0 0"/>
            <geometry>
                <box size="0.2 0.02 1.2"/>
            </geometry>
        </visual>
        <collision>
            <origin xyz="0 0 0" rpy="0 0 0"/>
            <geometry>
                <box size="0.2 0.02 1.2"/>
            </geometry>
        </collision>
    </link>
    <!-- Joint: hand_3, hand_3_sensor_0_left -->
    <joint name="hand_3_hand_3_sensor_0_left_joint" type="fixed">
        <parent link="hand_3"/>
        <child link="hand_3_sensor_0_left"/>
        <origin xyz="0 0.1 0"
                rpy="0 0 0"/>
        <axis xyz="0 1 0"/>
        
    </joint>


    <!-- hand_3_sensor_0_right -->
    <link name="hand_3_sensor_0_right">
        <inertial>
            <origin xyz="0 0 0" rpy="0 0 0"/>
            <mass value="0"/>
            <inertia ixx=".1" ixy=".1" ixz=".1" iyy=".1" iyz=".1" izz=".1"/>
        </inertial>
        <visual>
            <origin xyz="0 0 0" rpy="0 0 0"/>
            <geometry>
                <box size="0.2 0.02 1.2"/>
            </geometry>
        </visual>
        <collision>
            <origin xyz="0 0 0" rpy="0 0 0"/>
            <geometry>
                <box size="0.2 0.02 1.2"/>
            </geometry>
        </collision>
    </link>
    <!-- Joint: hand_3, hand_3_sensor_0_right -->
    <joint name="hand_3_hand_3_sensor_0_right_joint" type="fixed">
        <parent link="hand_3"/>
        <child link="hand_3_sensor_0_right"/>
        <origin xyz="0 -0.1 0"
                rpy="0 0 0"/>
        <axis xyz="0 1 0"/>
        
    </joint>
    <!-- Joint: palm, hand_3 -->
    <joint name="palm_hand_3_joint" type="fixed">
        <parent link="palm"/>
        <child link="hand_3"/>
        <origin xyz="0 -0.65 -0.7"
                rpy="0 0 0"/>
        <axis xyz="0 1 0"/>
        
    </joint>


    <!-- body_face_front_0 -->
    <link name="body_face_front_0">
        <inertial>
            <origin xyz="0 0 0" rpy="0 0 0"/>
            <mass value="0"/>
            <inertia ixx=".1" ixy=".1" ixz=".1" iyy=".1" iyz=".1" izz=".1"/>
        </inertial>
        <visual>
            <origin xyz="0 0 0" rpy="0 0 0"/>
            <geometry>
                <box size="0.002 0.1111111111111111 0.1111111111111111"/>
            </geometry>
        </visual>
        <collision>
            <origin xyz="0 0 0" rpy="0 0 0"/>
            <geometry>
                <box size="0.002 0.1111111111111111 0.1111111111111111"/>
            </geometry>
        </collision>
    </link>
    <!-- Joint: body, body_face_front_0 -->
    <joint name="body_body_face_front_0_joint" type="fixed">
        <parent link="body"/>
        <child link="body_face_front_0"/>
        <origin xyz="0.501 -0.33333333333333337 0.11111111111111116"
                rpy="0 0 0"/>
        <axis xyz="0 0 1"/>
        
    </joint>


    <!-- body_face_front_1 -->
    <link name="body_face_front_1">
        <inertial>
            <origin xyz="0 0 0" rpy="0 0 0"/>
            <mass value="0"/>
            <inertia ixx=".1" ixy=".1" ixz=".1" iyy=".1" iyz=".1" izz=".1"/>
        </inertial>
        <visual>
            <origin xyz="0 0 0" rpy="0 0 0"/>
            <geometry>
                <box size="0.002 0.1111111111111111 0.1111111111111111"/>
            </geometry>
        </visual>
        <collision>
            <origin xyz="0 0 0" rpy="0 0 0"/>
            <geometry>
                <box size="0.002 0.1111111111111111 0.1111111111111111"/>
            </geometry>
        </collision>
    </link>
    <!-- Joint: body, body_face_front_1 -->
    <joint name="body_body_face_front_1_joint" type="fixed">
        <parent link="body"/>
        <child link="body_face_front_1"/>
        <origin xyz="0.501 -0.2222222222222222 0.2222222222222222"
                rpy="0 0 0"/>
        <axis xyz="0 0 1"/>
        
    </joint>


    <!-- body_face_front_2 -->
    <link name="body_face_front_2">
        <inertial>
            <origin xyz="0 0 0" rpy="0 0 0"/>
            <mass value="0"/>
            <inertia ixx=".1" ixy=".1" ixz=".1" iyy=".1" iyz=".1" izz=".1"/>
        </inertial>
        <visual>
            <origin xyz="0 0 0" rpy="0 0 0"/>
            <geometry>
                <box size="0.002 0.1111111111111111 0.1111111111111111"/>
            </geometry>
        </visual>
        <collision>
            <origin xyz="0 0 0" rpy="0 0 0"/>
            <geometry>
                <box size="0.002 0.1111111111111111 0.1111111111111111"/>
            </geometry>
        </collision>
    </link>
    <!-- Joint: body, body_face_front_2 -->
    <joint name="body_body_face_front_2_joint" type="fixed">
        <parent link="body"/>
        <child link="body_face_front_2"/>
        <origin xyz="0.501 -0.1111111111111111 0.11111111111111116"
                rpy="0 0 0"/>
        <axis xyz="0 0 1"/>
        
    </joint>


    <!-- body_face_front_3 -->
    <link name="body_face_front_3">
        <inertial>
            <origin xyz="0 0 0" rpy="0 0 0"/>
            <mass value="0"/>
            <inertia ixx=".1" ixy=".1" ixz=".1" iyy=".1" iyz=".1" izz=".1"/>
        </inertial>
        <visual>
            <origin xyz="0 0 0" rpy="0 0 0"/>
            <geometry>
                <box size="0.002 0.1111111111111111 0.1111111111111111"/>
            </geometry>
        </visual>
        <collision>
            <origin xyz="0 0 0" rpy="0 0 0"/>
            <geometry>
                <box size="0.002 0.1111111111111111 0.1111111111111111"/>
            </geometry>
        </collision>
    </link>
    <!-- Joint: body, body_face_front_3 -->
    <joint name="body_body_face_front_3_joint" type="fixed">
        <parent link="body"/>
        <child link="body_face_front_3"/>
        <origin xyz="0.501 -0.1111111111111111 -0.2222222222222222"
                rpy="0 0 0"/>
        <axis xyz="0 0 1"/>
        
    </joint>


    <!-- body_face_front_4 -->
    <link name="body_face_front_4">
        <inertial>
            <origin xyz="0 0 0" rpy="0 0 0"/>
            <mass value="0"/>
            <inertia ixx=".1" ixy=".1" ixz=".1" iyy=".1" iyz=".1" izz=".1"/>
        </inertial>
        <visual>
            <origin xyz="0 0 0" rpy="0 0 0"/>
            <geometry>
                <box size="0.002 0.1111111111111111 0.1111111111111111"/>
            </geometry>
        </visual>
        <collision>
            <origin xyz="0 0 0" rpy="0 0 0"/>
            <geometry>
                <box size="0.002 0.1111111111111111 0.1111111111111111"/>
            </geometry>
        </collision>
    </link>
    <!-- Joint: body, body_face_front_4 -->
    <joint name="body_body_face_front_4_joint" type="fixed">
        <parent link="body"/>
        <child link="body_face_front_4"/>
        <origin xyz="0.501 0.0 -0.2222222222222222"
                rpy="0 0 0"/>
        <axis xyz="0 0 1"/>
        
    </joint>


    <!-- body_face_front_5 -->
    <link name="body_face_front_5">
        <inertial>
            <origin xyz="0 0 0" rpy="0 0 0"/>
            <mass value="0"/>
            <inertia ixx=".1" ixy=".1" ixz=".1" iyy=".1" iyz=".1" izz=".1"/>
        </inertial>
        <visual>
            <origin xyz="0 0 0" rpy="0 0 0"/>
            <geometry>
                <box size="0.002 0.1111111111111111 0.1111111111111111"/>
            </geometry>
        </visual>
        <collision>
            <origin xyz="0 0 0" rpy="0 0 0"/>
            <geometry>
                <box size="0.002 0.1111111111111111 0.1111111111111111"/>
            </geometry>
        </collision>
    </link>
    <!-- Joint: body, body_face_front_5 -->
    <joint name="body_body_face_front_5_joint" type="fixed">
        <parent link="body"/>
        <child link="body_face_front_5"/>
        <origin xyz="0.501 0.11111111111111116 0.11111111111111116"
                rpy="0 0 0"/>
        <axis xyz="0 0 1"/>
        
    </joint>


    <!-- body_face_front_6 -->
    <link name="body_face_front_6">
        <inertial>
            <origin xyz="0 0 0" rpy="0 0 0"/>
            <mass value="0"/>
            <inertia ixx=".1" ixy=".1" ixz=".1" iyy=".1" iyz=".1" izz=".1"/>
        </inertial>
        <visual>
            <origin xyz="0 0 0" rpy="0 0 0"/>
            <geometry>
                <box size="0.002 0.1111111111111111 0.1111111111111111"/>
            </geometry>
        </visual>
        <collision>
            <origin xyz="0 0 0" rpy="0 0 0"/>
            <geometry>
                <box size="0.002 0.1111111111111111 0.1111111111111111"/>
            </geometry>
        </collision>
    </link>
    <!-- Joint: body, body_face_front_6 -->
    <joint name="body_body_face_front_6_joint" type="fixed">
        <parent link="body"/>
        <child link="body_face_front_6"/>
        <origin xyz="0.501 0.11111111111111116 -0.2222222222222222"
                rpy="0 0 0"/>
        <axis xyz="0 0 1"/>
        
    </joint>


    <!-- body_face_front_7 -->
    <link name="body_face_front_7">
        <inertial>
            <origin xyz="0 0 0" rpy="0 0 0"/>
            <mass value="0"/>
            <inertia ixx=".1" ixy=".1" ixz=".1" iyy=".1" iyz=".1" izz=".1"/>
        </inertial>
        <visual>
            <origin xyz="0 0 0" rpy="0 0 0"/>
            <geometry>
                <box size="0.002 0.1111111111111111 0.1111111111111111"/>
            </geometry>
        </visual>
        <collision>
            <origin xyz="0 0 0" rpy="0 0 0"/>
            <geometry>
                <box size="0.002 0.1111111111111111 0.1111111111111111"/>
            </geometry>
        </collision>
    </link>
    <!-- Joint: body, body_face_front_7 -->
    <joint name="body_body_face_front_7_joint" type="fixed">
        <parent link="body"/>
        <child link="body_face_front_7"/>
        <origin xyz="0.501 0.2222222222222222 0.2222222222222222"
                rpy="0 0 0"/>
        <axis xyz="0 0 1"/>
        
    </joint>


    <!-- body_face_front_8 -->
    <link name="body_face_front_8">
        <inertial>
            <origin xyz="0 0 0" rpy="0 0 0"/>
            <mass value="0"/>
            <inertia ixx=".1" ixy=".1" ixz=".1" iyy=".1" iyz=".1" izz=".1"/>
        </inertial>
        <visual>
            <origin xyz="0 0 0" rpy="0 0 0"/>
            <geometry>
                <box size="0.002 0.1111111111111111 0.1111111111111111"/>
            </geometry>
        </visual>
        <collision>
            <origin xyz="0 0 0" rpy="0 0 0"/>
            <geometry>
                <box size="0.002 0.1111111111111111 0.1111111111111111"/>
            </geometry>
        </collision>
    </link>
    <!-- Joint: body, body_face_front_8 -->
    <joint name="body_body_face_front_8_joint" type="fixed">
        <parent link="body"/>
        <child link="body_face_front_8"/>
        <origin xyz="0.501 0.33333333333333337 0.11111111111111116"
                rpy="0 0 0"/>
        <axis xyz="0 0 1"/>
        
    </joint>


    <!-- body_face_top_0 -->
    <link name="body_face_top_0">
        <inertial>
            <origin xyz="0 0 0" rpy="0 0 0"/>
            <mass value="0"/>
            <inertia ixx=".1" ixy=".1" ixz=".1" iyy=".1" iyz=".1" izz=".1"/>
        </inertial>
        <visual>
            <origin xyz="0 0 0" rpy="0 0 0"/>
            <geometry>
                <box size="0.1111111111111111 0.1111111111111111 0.002"/>
            </geometry>
        </visual>
        <collision>
            <origin xyz="0 0 0" rpy="0 0 0"/>
            <geometry>
                <box size="0.1111111111111111 0.1111111111111111 0.002"/>
            </geometry>
        </collision>
    </link>
    <!-- Joint: body, body_face_top_0 -->
    <joint name="body_body_face_top_0_joint" type="fixed">
        <parent link="body"/>
        <child link="body_face_top_0"/>
        <origin xyz="0.11111111111111116 -0.2222222222222222 0.501"
                rpy="0 0 0"/>
        <axis xyz="0 0 1"/>
        
    </joint>


    <!-- body_face_top_1 -->
    <link name="body_face_top_1">
        <inertial>
            <origin xyz="0 0 0" rpy="0 0 0"/>
            <mass value="0"/>
            <inertia ixx=".1" ixy=".1" ixz=".1" iyy=".1" iyz=".1" izz=".1"/>
        </inertial>
        <visual>
            <origin xyz="0 0 0" rpy="0 0 0"/>
            <geometry>
                <box size="0.1111111111111111 0.1111111111111111 0.002"/>
            </geometry>
        </visual>
        <collision>
            <origin xyz="0 0 0" rpy="0 0 0"/>
            <geometry>
                <box size="0.1111111111111111 0.1111111111111111 0.002"/>
            </geometry>
        </collision>
    </link>
    <!-- Joint: body, body_face_top_1 -->
    <joint name="body_body_face_top_1_joint" type="fixed">
        <parent link="body"/>
        <child link="body_face_top_1"/>
        <origin xyz="0.11111111111111116 -0.1111111111111111 0.501"
                rpy="0 0 0"/>
        <axis xyz="0 0 1"/>
        
    </joint>


    <!-- body_face_top_2 -->
    <link name="body_face_top_2">
        <inertial>
            <origin xyz="0 0 0" rpy="0 0 0"/>
            <mass value="0"/>
            <inertia ixx=".1" ixy=".1" ixz=".1" iyy=".1" iyz=".1" izz=".1"/>
        </inertial>
        <visual>
            <origin xyz="0 0 0" rpy="0 0 0"/>
            <geometry>
                <box size="0.1111111111111111 0.1111111111111111 0.002"/>
            </geometry>
        </visual>
        <collision>
            <origin xyz="0 0 0" rpy="0 0 0"/>
            <geometry>
                <box size="0.1111111111111111 0.1111111111111111 0.002"/>
            </geometry>
        </collision>
    </link>
    <!-- Joint: body, body_face_top_2 -->
    <joint name="body_body_face_top_2_joint" type="fixed">
        <parent link="body"/>
        <child link="body_face_top_2"/>
        <origin xyz="0.2222222222222222 -0.1111111111111111 0.501"
                rpy="0 0 0"/>
        <axis xyz="0 0 1"/>
        
    </joint>


    <!-- body_face_top_3 -->
    <link name="body_face_top_3">
        <inertial>
            <origin xyz="0 0 0" rpy="0 0 0"/>
            <mass value="0"/>
            <inertia ixx=".1" ixy=".1" ixz=".1" iyy=".1" iyz=".1" izz=".1"/>
        </inertial>
        <visual>
            <origin xyz="0 0 0" rpy="0 0 0"/>
            <geometry>
                <box size="0.1111111111111111 0.1111111111111111 0.002"/>
            </geometry>
        </visual>
        <collision>
            <origin xyz="0 0 0" rpy="0 0 0"/>
            <geometry>
                <box size="0.1111111111111111 0.1111111111111111 0.002"/>
            </geometry>
        </collision>
    </link>
    <!-- Joint: body, body_face_top_3 -->
    <joint name="body_body_face_top_3_joint" type="fixed">
        <parent link="body"/>
        <child link="body_face_top_3"/>
        <origin xyz="-0.33333333333333337 0.0 0.501"
                rpy="0 0 0"/>
        <axis xyz="0 0 1"/>
        
    </joint>


    <!-- body_face_top_4 -->
    <link name="body_face_top_4">
        <inertial>
            <origin xyz="0 0 0" rpy="0 0 0"/>
            <mass value="0"/>
            <inertia ixx=".1" ixy=".1" ixz=".1" iyy=".1" iyz=".1" izz=".1"/>
        </inertial>
        <visual>
            <origin xyz="0 0 0" rpy="0 0 0"/>
            <geometry>
                <box size="0.1111111111111111 0.1111111111111111 0.002"/>
            </geometry>
        </visual>
        <collision>
            <origin xyz="0 0 0" rpy="0 0 0"/>
            <geometry>
                <box size="0.1111111111111111 0.1111111111111111 0.002"/>
            </geometry>
        </collision>
    </link>
    <!-- Joint: body, body_face_top_4 -->
    <joint name="body_body_face_top_4_joint" type="fixed">
        <parent link="body"/>
        <child link="body_face_top_4"/>
        <origin xyz="-0.2222222222222222 0.0 0.501"
                rpy="0 0 0"/>
        <axis xyz="0 0 1"/>
        
    </joint>


    <!-- body_face_top_5 -->
    <link name="body_face_top_5">
        <inertial>
            <origin xyz="0 0 0" rpy="0 0 0"/>
            <mass value="0"/>
            <inertia ixx=".1" ixy=".1" ixz=".1" iyy=".1" iyz=".1" izz=".1"/>
        </inertial>
        <visual>
            <origin xyz="0 0 0" rpy="0 0 0"/>
            <geometry>
                <box size="0.1111111111111111 0.1111111111111111 0.002"/>
            </geometry>
        </visual>
        <collision>
            <origin xyz="0 0 0" rpy="0 0 0"/>
            <geometry>
                <box size="0.1111111111111111 0.1111111111111111 0.002"/>
            </geometry>
        </collision>
    </link>
    <!-- Joint: body, body_face_top_5 -->
    <joint name="body_body_face_top_5_joint" type="fixed">
        <parent link="body"/>
        <child link="body_face_top_5"/>
        <origin xyz="-0.1111111111111111 0.0 0.501"
                rpy="0 0 0"/>
        <axis xyz="0 0 1"/>
        
    </joint>


    <!-- body_face_top_6 -->
    <link name="body_face_top_6">
        <inertial>
            <origin xyz="0 0 0" rpy="0 0 0"/>
            <mass value="0"/>
            <inertia ixx=".1" ixy=".1" ixz=".1" iyy=".1" iyz=".1" izz=".1"/>
        </inertial>
        <visual>
            <origin xyz="0 0 0" rpy="0 0 0"/>
            <geometry>
                <box size="0.1111111111111111 0.1111111111111111 0.002"/>
            </geometry>
        </visual>
        <collision>
            <origin xyz="0 0 0" rpy="0 0 0"/>
            <geometry>
                <box size="0.1111111111111111 0.1111111111111111 0.002"/>
            </geometry>
        </collision>
    </link>
    <!-- Joint: body, body_face_top_6 -->
    <joint name="body_body_face_top_6_joint" type="fixed">
        <parent link="body"/>
        <child link="body_face_top_6"/>
        <origin xyz="0.0 0.0 0.501"
                rpy="0 0 0"/>
        <axis xyz="0 0 1"/>
        
    </joint>


    <!-- body_face_top_7 -->
    <link name="body_face_top_7">
        <inertial>
            <origin xyz="0 0 0" rpy="0 0 0"/>
            <mass value="0"/>
            <inertia ixx=".1" ixy=".1" ixz=".1" iyy=".1" iyz=".1" izz=".1"/>
        </inertial>
        <visual>
            <origin xyz="0 0 0" rpy="0 0 0"/>
            <geometry>
                <box size="0.1111111111111111 0.1111111111111111 0.002"/>
            </geometry>
        </visual>
        <collision>
            <origin xyz="0 0 0" rpy="0 0 0"/>
            <geometry>
                <box size="0.1111111111111111 0.1111111111111111 0.002"/>
            </geometry>
        </collision>
    </link>
    <!-- Joint: body, body_face_top_7 -->
    <joint name="body_body_face_top_7_joint" type="fixed">
        <parent link="body"/>
        <child link="body_face_top_7"/>
        <origin xyz="0.11111111111111116 0.0 0.501"
                rpy="0 0 0"/>
        <axis xyz="0 0 1"/>
        
    </joint>


    <!-- body_face_top_8 -->
    <link name="body_face_top_8">
        <inertial>
            <origin xyz="0 0 0" rpy="0 0 0"/>
            <mass value="0"/>
            <inertia ixx=".1" ixy=".1" ixz=".1" iyy=".1" iyz=".1" izz=".1"/>
        </inertial>
        <visual>
            <origin xyz="0 0 0" rpy="0 0 0"/>
            <geometry>
                <box size="0.1111111111111111 0.1111111111111111 0.002"/>
            </geometry>
        </visual>
        <collision>
            <origin xyz="0 0 0" rpy="0 0 0"/>
            <geometry>
                <box size="0.1111111111111111 0.1111111111111111 0.002"/>
            </geometry>
        </collision>
    </link>
    <!-- Joint: body, body_face_top_8 -->
    <joint name="body_body_face_top_8_joint" type="fixed">
        <parent link="body"/>
        <child link="body_face_top_8"/>
        <origin xyz="0.2222222222222222 0.0 0.501"
                rpy="0 0 0"/>
        <axis xyz="0 0 1"/>
        
    </joint>


    <!-- body_face_top_9 -->
    <link name="body_face_top_9">
        <inertial>
            <origin xyz="0 0 0" rpy="0 0 0"/>
            <mass value="0"/>
            <inertia ixx=".1" ixy=".1" ixz=".1" iyy=".1" iyz=".1" izz=".1"/>
        </inertial>
        <visual>
            <origin xyz="0 0 0" rpy="0 0 0"/>
            <geometry>
                <box size="0.1111111111111111 0.1111111111111111 0.002"/>
            </geometry>
        </visual>
        <collision>
            <origin xyz="0 0 0" rpy="0 0 0"/>
            <geometry>
                <box size="0.1111111111111111 0.1111111111111111 0.002"/>
            </geometry>
        </collision>
    </link>
    <!-- Joint: body, body_face_top_9 -->
    <joint name="body_body_face_top_9_joint" type="fixed">
        <parent link="body"/>
        <child link="body_face_top_9"/>
        <origin xyz="0.33333333333333337 0.0 0.501"
                rpy="0 0 0"/>
        <axis xyz="0 0 1"/>
        
    </joint>


    <!-- body_face_top_10 -->
    <link name="body_face_top_10">
        <inertial>
            <origin xyz="0 0 0" rpy="0 0 0"/>
            <mass value="0"/>
            <inertia ixx=".1" ixy=".1" ixz=".1" iyy=".1" iyz=".1" izz=".1"/>
        </inertial>
        <visual>
            <origin xyz="0 0 0" rpy="0 0 0"/>
            <geometry>
                <box size="0.1111111111111111 0.1111111111111111 0.002"/>
            </geometry>
        </visual>
        <collision>
            <origin xyz="0 0 0" rpy="0 0 0"/>
            <geometry>
                <box size="0.1111111111111111 0.1111111111111111 0.002"/>
            </geometry>
        </collision>
    </link>
    <!-- Joint: body, body_face_top_10 -->
    <joint name="body_body_face_top_10_joint" type="fixed">
        <parent link="body"/>
        <child link="body_face_top_10"/>
        <origin xyz="0.11111111111111116 0.11111111111111116 0.501"
                rpy="0 0 0"/>
        <axis xyz="0 0 1"/>
        
    </joint>


    <!-- body_face_top_11 -->
    <link name="body_face_top_11">
        <inertial>
            <origin xyz="0 0 0" rpy="0 0 0"/>
            <mass value="0"/>
            <inertia ixx=".1" ixy=".1" ixz=".1" iyy=".1" iyz=".1" izz=".1"/>
        </inertial>
        <visual>
            <origin xyz="0 0 0" rpy="0 0 0"/>
            <geometry>
                <box size="0.1111111111111111 0.1111111111111111 0.002"/>
            </geometry>
        </visual>
        <collision>
            <origin xyz="0 0 0" rpy="0 0 0"/>
            <geometry>
                <box size="0.1111111111111111 0.1111111111111111 0.002"/>
            </geometry>
        </collision>
    </link>
    <!-- Joint: body, body_face_top_11 -->
    <joint name="body_body_face_top_11_joint" type="fixed">
        <parent link="body"/>
        <child link="body_face_top_11"/>
        <origin xyz="0.2222222222222222 0.11111111111111116 0.501"
                rpy="0 0 0"/>
        <axis xyz="0 0 1"/>
        
    </joint>


    <!-- body_face_top_12 -->
    <link name="body_face_top_12">
        <inertial>
            <origin xyz="0 0 0" rpy="0 0 0"/>
            <mass value="0"/>
            <inertia ixx=".1" ixy=".1" ixz=".1" iyy=".1" iyz=".1" izz=".1"/>
        </inertial>
        <visual>
            <origin xyz="0 0 0" rpy="0 0 0"/>
            <geometry>
                <box size="0.1111111111111111 0.1111111111111111 0.002"/>
            </geometry>
        </visual>
        <collision>
            <origin xyz="0 0 0" rpy="0 0 0"/>
            <geometry>
                <box size="0.1111111111111111 0.1111111111111111 0.002"/>
            </geometry>
        </collision>
    </link>
    <!-- Joint: body, body_face_top_12 -->
    <joint name="body_body_face_top_12_joint" type="fixed">
        <parent link="body"/>
        <child link="body_face_top_12"/>
        <origin xyz="0.11111111111111116 0.2222222222222222 0.501"
                rpy="0 0 0"/>
        <axis xyz="0 0 1"/>
        
    </joint>


</robot>
